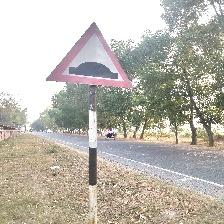Speed-breaker: (47, 25, 130, 87)
